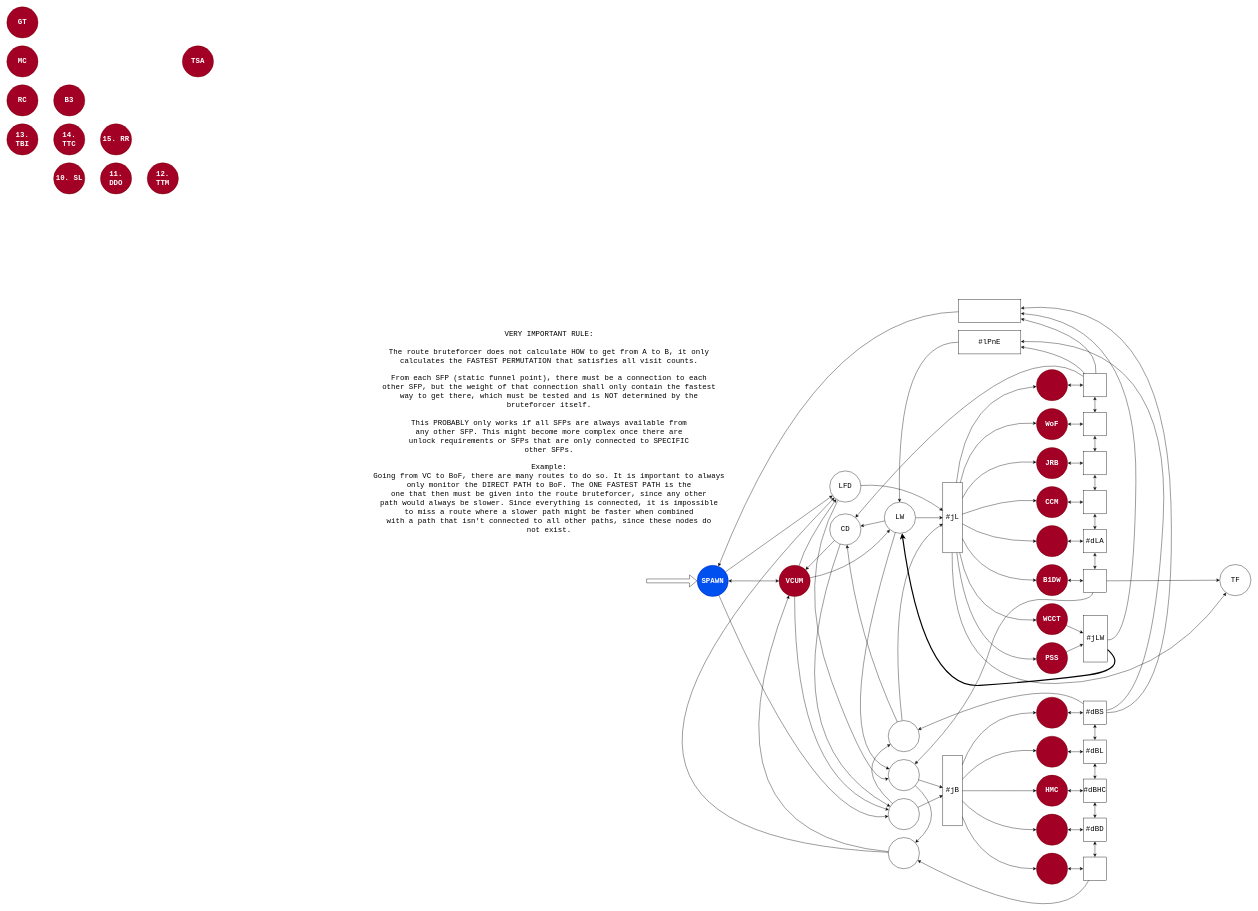
The diagram is 1258 pixels wide and 911 high, and some of its shapes have lost their labels. The shapes that lost their labels are listed below. From the top down, each one's box as (x1, y1, x2, y2) in pixels, then its label:
(958, 299, 1021, 323): #lSnQ
(1036, 369, 1068, 401): BoF
(1083, 373, 1107, 397): #dLB
(1083, 412, 1107, 436): #dLW
(1083, 451, 1107, 475): #dLJA
(1083, 490, 1107, 514): #dLC
(1036, 525, 1068, 557): AM
(1083, 569, 1107, 593): #dL1
(1036, 697, 1068, 728): SSL
(888, 720, 919, 752): LBD
(1036, 736, 1068, 767): LLL
(888, 759, 919, 791): BMLD
(888, 798, 919, 830): BMMD
(1036, 814, 1068, 845): DDD
(888, 837, 919, 869): CMD
(1036, 853, 1068, 884): B2FS
(1083, 857, 1107, 880): #dB2
